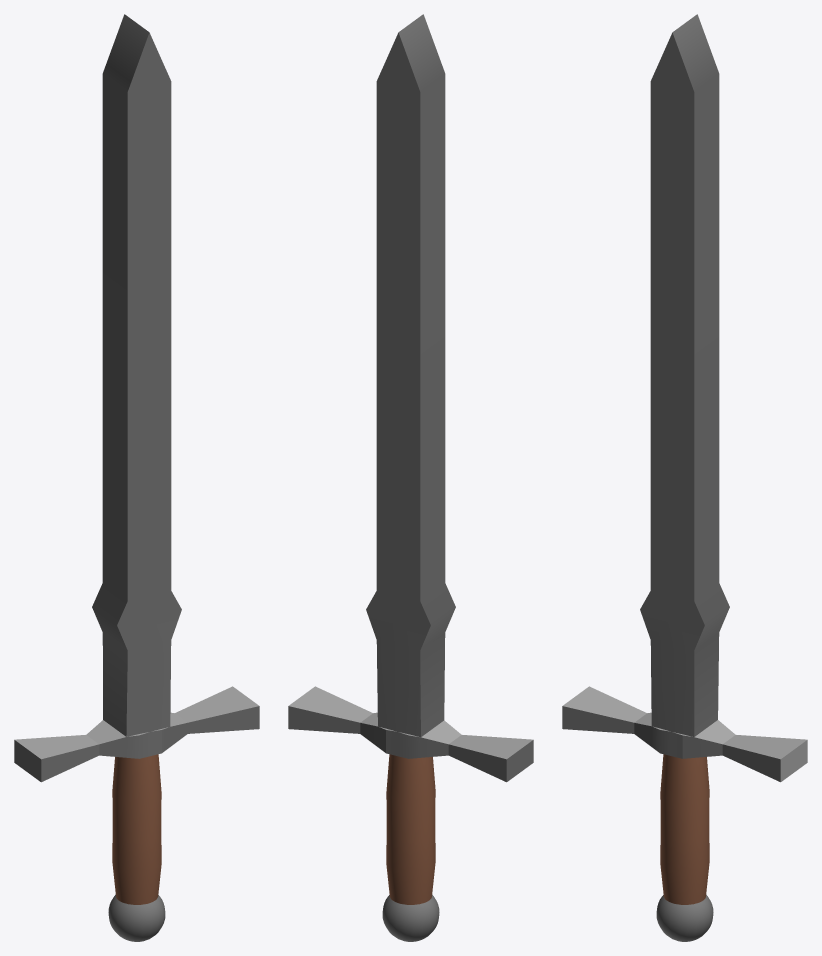
Rendered from NeutralA.fbx.
3 views of the same model, side by side, from view 1: azimuth 30°, elevation 25°; view 2: azimuth 150°, elevation 25°; view 3: azimuth 330°, elevation 25° (orthographic).
Parts seen in each view (by area): view 1: polySurface2; view 2: polySurface2; view 3: polySurface2.
Boxes of the visible parts, x1,y1,x2,y2 form: polySurface2: [14, 14, 259, 941]; polySurface2: [288, 14, 533, 941]; polySurface2: [562, 14, 807, 941].
Size of the model in its own units: 27.54 by 110 by 6.26.
